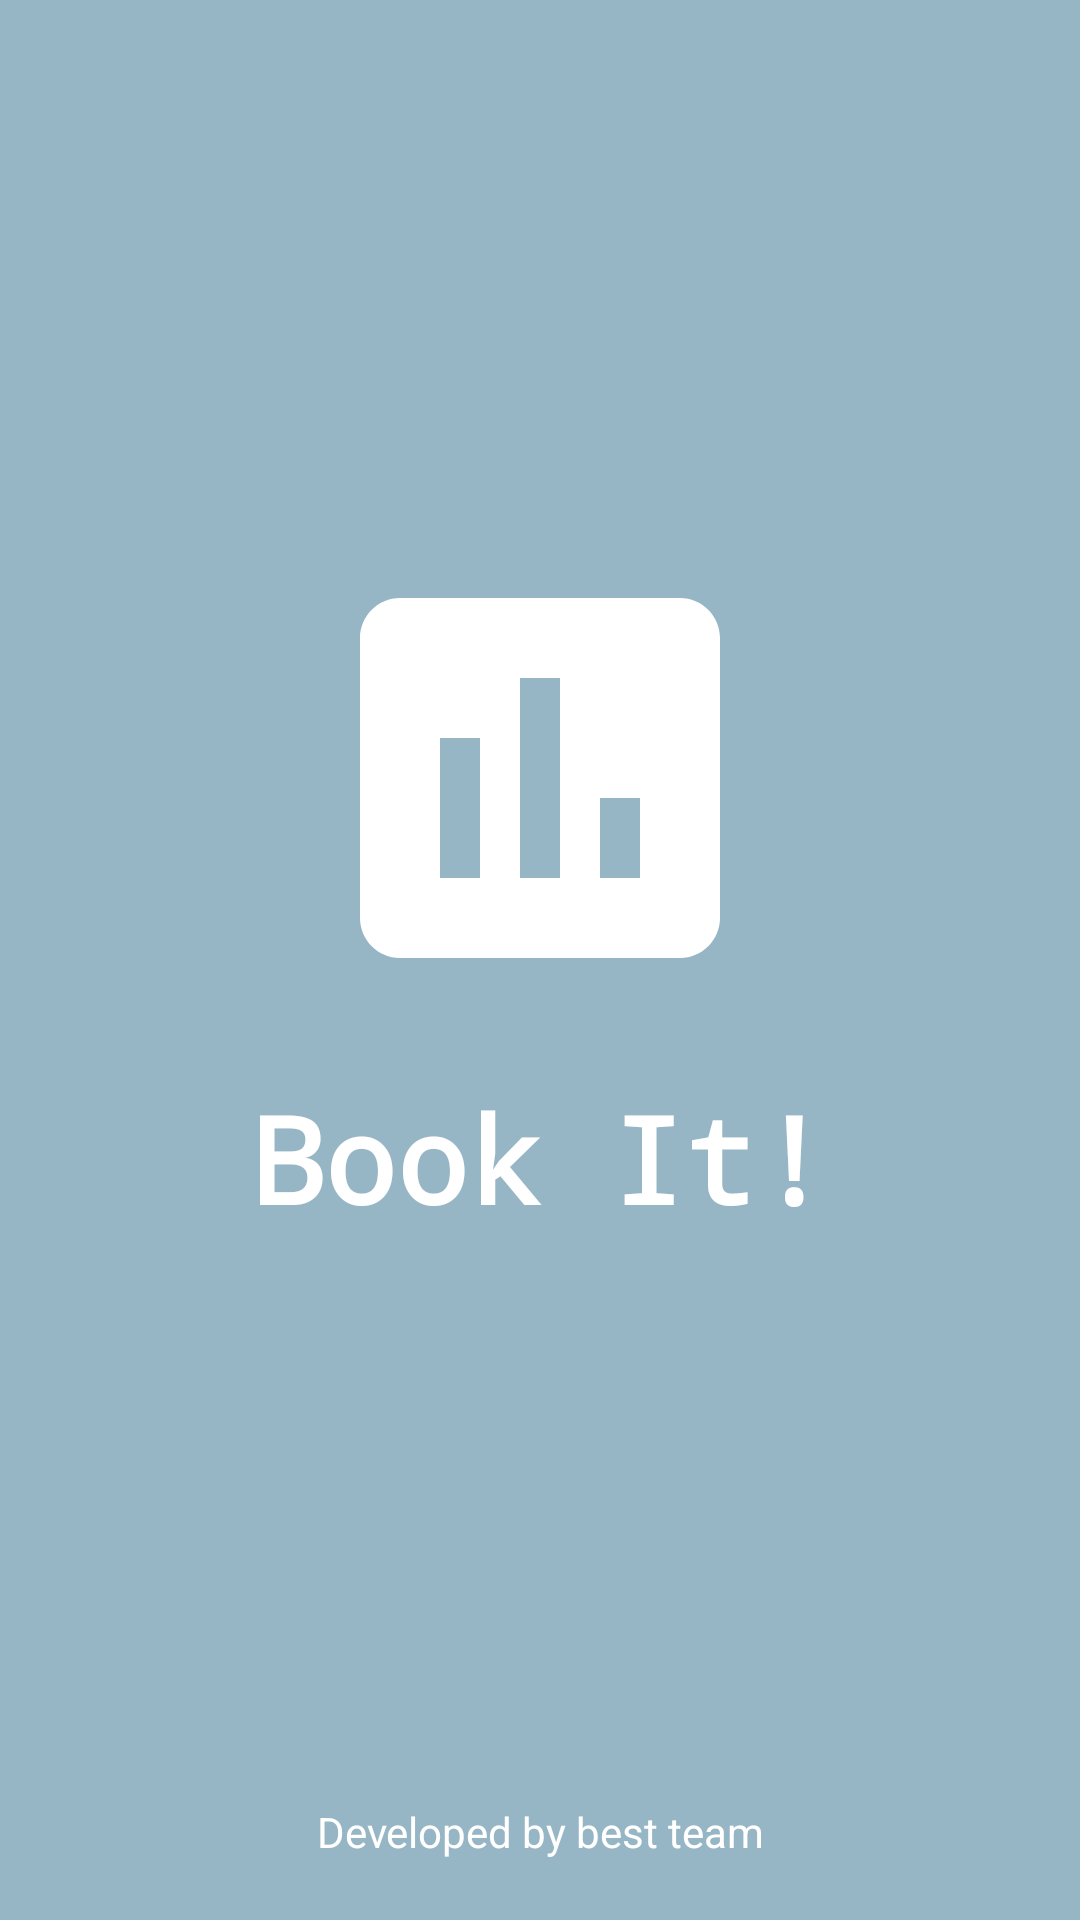

Named icons in this screenshot (1080px x 1920px) and their bounding boxes, [x1=x1, y1=y1, x2=x2, y2=y2]:
poll: [x1=360, y1=598, x2=720, y2=958]
